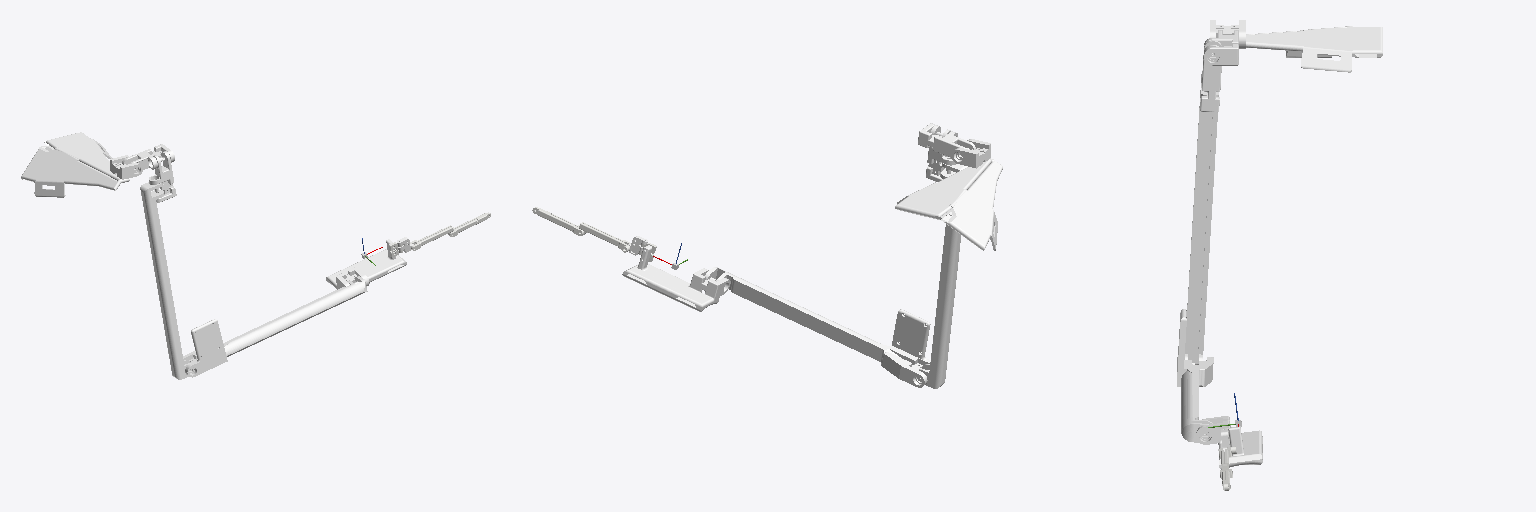
URDF robot description (my-robot-right):
<?xml version="1.0" ?>
<!-- Generated using onshape-to-robot -->
<!-- Onshape https://cad.onshape.com/documents/30647899d0efca800f6a0b61/w/6367c32608b1610b986f4220/e/82448bde0644faba4511c9d2 -->
<robot name="my-robot-right">
  <link name="base_link"/>
  <joint name="base_to_shoulder_pitch" type="fixed">
    <origin xyz="-0.60072 0.15 0.3178" rpy="-0.0 0.0 -0.0"/>
    <parent link="base_link"/>
    <child link="shoulder_pitch"/>
  </joint>
  <!-- Link shoulder_pitch -->
  <link name="shoulder_pitch">
    <inertial>
      <origin xyz="0.0 -0.0 0.0" rpy="-0.0 0.0 -0.0"/>
      <mass value="1e-09"/>
      <inertia ixx="1e-09" ixy="0" ixz="0" iyy="1e-09" iyz="0" izz="1e-09"/>
    </inertial>
    <!-- Part shoulder -->
    <visual>
      <origin xyz="-0.319917 0.188041 -0.0739695" rpy="-1.73941e-11 -2.77556e-17 3.14159"/>
      <geometry>
        <mesh filename="package://meshes_exo_right/shoulder.stl"/>
      </geometry>
      <material name="shoulder_material">
        <color rgba="1 1 1 1"/>
      </material>
    </visual>
    <collision>
      <origin xyz="-0.319917 0.188041 -0.0739695" rpy="-1.73941e-11 -2.77556e-17 3.14159"/>
      <geometry>
        <mesh filename="package://meshes_exo_right/shoulder.stl"/>
      </geometry>
    </collision>
    <!-- Part shoulder_2 -->
    <visual>
      <origin xyz="-0.319917 0.188041 -0.0739695" rpy="-1.73941e-11 1.7367e-11 -3.14159"/>
      <geometry>
        <mesh filename="package://meshes_exo_right/shoulder__2.stl"/>
      </geometry>
      <material name="shoulder_2_material">
        <color rgba="1 1 1 1"/>
      </material>
    </visual>
    <collision>
      <origin xyz="-0.319917 0.188041 -0.0739695" rpy="-1.73941e-11 1.7367e-11 -3.14159"/>
      <geometry>
        <mesh filename="package://meshes_exo_right/shoulder__2.stl"/>
      </geometry>
    </collision>
  </link>
  <!-- Link shoulder_yaw -->
  <link name="shoulder_yaw">
    <inertial>
      <origin xyz="0.0 -0.0 0.0" rpy="-0.0 0.0 -0.0"/>
      <mass value="1e-09"/>
      <inertia ixx="1e-09" ixy="0" ixz="0" iyy="1e-09" iyz="0" izz="1e-09"/>
    </inertial>
    <!-- Part shoulder_3 -->
    <visual>
      <origin xyz="0.337111 -0.085895 0.174004" rpy="-1.5708 4.85145e-12 5.68355e-18"/>
      <geometry>
        <mesh filename="package://meshes_exo_right/shoulder__3.stl"/>
      </geometry>
      <material name="shoulder_3_material">
        <color rgba="1 1 1 1"/>
      </material>
    </visual>
    <collision>
      <origin xyz="0.337111 -0.085895 0.174004" rpy="-1.5708 4.85145e-12 5.68355e-18"/>
      <geometry>
        <mesh filename="package://meshes_exo_right/shoulder__3.stl"/>
      </geometry>
    </collision>
  </link>
  <!-- Link shoulder_roll -->
  <link name="shoulder_roll">
    <inertial>
      <origin xyz="0.0 -0.0 0.0" rpy="-0.0 0.0 -0.0"/>
      <mass value="1e-09"/>
      <inertia ixx="1e-09" ixy="0" ixz="0" iyy="1e-09" iyz="0" izz="1e-09"/>
    </inertial>
    <!-- Part shoulder_4 -->
    <visual>
      <origin xyz="0.188947 0.0970719 0.361641" rpy="1.62911 -1.5708 -0.0"/>
      <geometry>
        <mesh filename="package://meshes_exo_right/shoulder__4.stl"/>
      </geometry>
      <material name="shoulder_4_material">
        <color rgba="1 1 1 1"/>
      </material>
    </visual>
    <collision>
      <origin xyz="0.188947 0.0970719 0.361641" rpy="1.62911 -1.5708 -0.0"/>
      <geometry>
        <mesh filename="package://meshes_exo_right/shoulder__4.stl"/>
      </geometry>
    </collision>
  </link>
  <!-- Link elbow_flex -->
  <link name="elbow_flex">
    <inertial>
      <origin xyz="0.0 -0.0 0.0" rpy="-0.0 0.0 -0.0"/>
      <mass value="1e-09"/>
      <inertia ixx="1e-09" ixy="0" ixz="0" iyy="1e-09" iyz="0" izz="1e-09"/>
    </inertial>
    <!-- Part shoulder_5 -->
    <visual>
      <origin xyz="0.358661 -0.193894 -0.0611064" rpy="-1.78388e-17 2.53007e-17 -3.50616e-18"/>
      <geometry>
        <mesh filename="package://meshes_exo_right/shoulder__5.stl"/>
      </geometry>
      <material name="shoulder_5_material">
        <color rgba="1 1 1 1"/>
      </material>
    </visual>
    <collision>
      <origin xyz="0.358661 -0.193894 -0.0611064" rpy="-1.78388e-17 2.53007e-17 -3.50616e-18"/>
      <geometry>
        <mesh filename="package://meshes_exo_right/shoulder__5.stl"/>
      </geometry>
    </collision>
  </link>
  <!-- Link wrist_roll -->
  <link name="wrist_roll">
    <inertial>
      <origin xyz="0.0 -0.0 0.0" rpy="-0.0 0.0 -0.0"/>
      <mass value="1e-09"/>
      <inertia ixx="1e-09" ixy="0" ixz="0" iyy="1e-09" iyz="0" izz="1e-09"/>
    </inertial>
    <!-- Part wrist -->
    <visual>
      <origin xyz="0.370176 0.154734 0.203442" rpy="-1.5708 2.12442e-12 -0.0687143"/>
      <geometry>
        <mesh filename="package://meshes_exo_right/wrist.stl"/>
      </geometry>
      <material name="wrist_material">
        <color rgba="1 1 1 1"/>
      </material>
    </visual>
    <collision>
      <origin xyz="0.370176 0.154734 0.203442" rpy="-1.5708 2.12442e-12 -0.0687143"/>
      <geometry>
        <mesh filename="package://meshes_exo_right/wrist.stl"/>
      </geometry>
    </collision>
  </link>
  <!-- Link end_effector -->
  <link name="end_effector">
    <inertial>
      <origin xyz="0.0 -0.0 0.0" rpy="-0.0 0.0 -0.0"/>
      <mass value="1e-09"/>
      <inertia ixx="1e-09" ixy="0" ixz="0" iyy="1e-09" iyz="0" izz="1e-09"/>
    </inertial>
    <!-- Part wrist_2 -->
    <visual>
      <origin xyz="0.189619 -0.17695 -0.583114" rpy="-0.0540298 1.5708 -0.0"/>
      <geometry>
        <mesh filename="package://meshes_exo_right/wrist__2.stl"/>
      </geometry>
      <material name="wrist_2_material">
        <color rgba="0.964706 0.964706 0.952941 1"/>
      </material>
    </visual>
    <collision>
      <origin xyz="0.189619 -0.17695 -0.583114" rpy="-0.0540298 1.5708 -0.0"/>
      <geometry>
        <mesh filename="package://meshes_exo_right/wrist__2.stl"/>
      </geometry>
    </collision>
    <!-- Part wrist_3 -->
    <visual>
      <origin xyz="0.189345 -0.176964 -0.583114" rpy="-0.0540298 1.5708 -0.0"/>
      <geometry>
        <mesh filename="package://meshes_exo_right/wrist__3.stl"/>
      </geometry>
      <material name="wrist_3_material">
        <color rgba="1 1 1 1"/>
      </material>
    </visual>
    <collision>
      <origin xyz="0.189345 -0.176964 -0.583114" rpy="-0.0540298 1.5708 -0.0"/>
      <geometry>
        <mesh filename="package://meshes_exo_right/wrist__3.stl"/>
      </geometry>
    </collision>
    <!-- Part wrist_4 -->
    <visual>
      <origin xyz="0.192193 -0.173682 -0.583216" rpy="-0.0688698 1.5708 -0.0"/>
      <geometry>
        <mesh filename="package://meshes_exo_right/wrist__4.stl"/>
      </geometry>
      <material name="wrist_4_material">
        <color rgba="1 1 1 1"/>
      </material>
    </visual>
    <collision>
      <origin xyz="0.192193 -0.173682 -0.583216" rpy="-0.0688698 1.5708 -0.0"/>
      <geometry>
        <mesh filename="package://meshes_exo_right/wrist__4.stl"/>
      </geometry>
    </collision>
    <!-- Part wrist_5 -->
    <visual>
      <origin xyz="0.189768 -0.177109 -0.583122" rpy="1.57084 1.57074 1.62483"/>
      <geometry>
        <mesh filename="package://meshes_exo_right/wrist__5.stl"/>
      </geometry>
      <material name="wrist_5_material">
        <color rgba="0.964706 0.964706 0.952941 1"/>
      </material>
    </visual>
    <collision>
      <origin xyz="0.189768 -0.177109 -0.583122" rpy="1.57084 1.57074 1.62483"/>
      <geometry>
        <mesh filename="package://meshes_exo_right/wrist__5.stl"/>
      </geometry>
    </collision>
    <!-- Part wrist_6 -->
    <visual>
      <origin xyz="0.189348 -0.177132 -0.583124" rpy="1.57084 1.57074 1.62483"/>
      <geometry>
        <mesh filename="package://meshes_exo_right/wrist__6.stl"/>
      </geometry>
      <material name="wrist_6_material">
        <color rgba="0.964706 0.964706 0.952941 1"/>
      </material>
    </visual>
    <collision>
      <origin xyz="0.189348 -0.177132 -0.583124" rpy="1.57084 1.57074 1.62483"/>
      <geometry>
        <mesh filename="package://meshes_exo_right/wrist__6.stl"/>
      </geometry>
    </collision>
    <!-- Part z -->
    <visual>
      <origin xyz="0.0115311 -0.0274691 0.0397266" rpy="-3.08756 -1.5708 -0.0"/>
      <geometry>
        <mesh filename="package://meshes_exo_right/z.stl"/>
      </geometry>
      <material name="z_material">
        <color rgba="0.231373 0.380392 0.705882 1"/>
      </material>
    </visual>
    <collision>
      <origin xyz="0.0115311 -0.0274691 0.0397266" rpy="-3.08756 -1.5708 -0.0"/>
      <geometry>
        <mesh filename="package://meshes_exo_right/z.stl"/>
      </geometry>
    </collision>
    <!-- Part y -->
    <visual>
      <origin xyz="0.0115311 -0.0274691 0.0397266" rpy="-3.08756 -1.5708 -0.0"/>
      <geometry>
        <mesh filename="package://meshes_exo_right/y.stl"/>
      </geometry>
      <material name="y_material">
        <color rgba="0.372549 0.654902 0.239216 1"/>
      </material>
    </visual>
    <collision>
      <origin xyz="0.0115311 -0.0274691 0.0397266" rpy="-3.08756 -1.5708 -0.0"/>
      <geometry>
        <mesh filename="package://meshes_exo_right/y.stl"/>
      </geometry>
    </collision>
    <!-- Part part_4 -->
    <visual>
      <origin xyz="0.0115311 -0.0274691 0.0397266" rpy="-3.08756 -1.5708 -0.0"/>
      <geometry>
        <mesh filename="package://meshes_exo_right/part_4.stl"/>
      </geometry>
      <material name="part_4_material">
        <color rgba="0.917647 0.917647 0.917647 1"/>
      </material>
    </visual>
    <collision>
      <origin xyz="0.0115311 -0.0274691 0.0397266" rpy="-3.08756 -1.5708 -0.0"/>
      <geometry>
        <mesh filename="package://meshes_exo_right/part_4.stl"/>
      </geometry>
    </collision>
    <!-- Part x -->
    <visual>
      <origin xyz="0.0115311 -0.0274691 0.0397266" rpy="-3.08756 -1.5708 -0.0"/>
      <geometry>
        <mesh filename="package://meshes_exo_right/x.stl"/>
      </geometry>
      <material name="x_material">
        <color rgba="1 0 0 1"/>
      </material>
    </visual>
    <collision>
      <origin xyz="0.0115311 -0.0274691 0.0397266" rpy="-3.08756 -1.5708 -0.0"/>
      <geometry>
        <mesh filename="package://meshes_exo_right/x.stl"/>
      </geometry>
    </collision>
  </link>
  <!-- Joint from wrist_roll to end_effector -->
  <joint name="wrist_roll" type="revolute">
    <origin xyz="-0.224547 0.0154537 0.0169453" rpy="-1.5708 0.139345 1.50208"/>
    <parent link="wrist_roll"/>
    <child link="end_effector"/>
    <axis xyz="0 0 1"/>
    <limit effort="10" velocity="10" lower="-0.716528" upper="0.854268"/>
  </joint>
  <!-- Joint from elbow_flex to wrist_roll -->
  <joint name="elbow_flex" type="revolute">
    <origin xyz="-1.7424e-05 0.00788072 -0.240892" rpy="1.5708 2.53007e-17 -3.50616e-18"/>
    <parent link="elbow_flex"/>
    <child link="wrist_roll"/>
    <axis xyz="0 0 1"/>
    <limit effort="10" velocity="10" lower="-1.11591" upper="1.32755"/>
  </joint>
  <!-- Joint from shoulder_roll to elbow_flex -->
  <joint name="shoulder_roll" type="revolute">
    <origin xyz="-0.00144298 0.0247172 0.00296278" rpy="1.5708 -1.56793 0.0583134"/>
    <parent link="shoulder_roll"/>
    <child link="elbow_flex"/>
    <axis xyz="0 0 1"/>
    <limit effort="10" velocity="10" lower="-1.57366" upper="1.56793"/>
  </joint>
  <!-- Joint from shoulder_yaw to shoulder_roll -->
  <joint name="shoulder_yaw" type="revolute">
    <origin xyz="-0.0247593 -7.34308e-15 -0.0202799" rpy="-3.14159 -1.5708 -0.0"/>
    <parent link="shoulder_yaw"/>
    <child link="shoulder_roll"/>
    <axis xyz="0 0 1"/>
    <limit effort="10" velocity="10" lower="-0.290752" upper="1.62911"/>
  </joint>
  <!-- Joint from shoulder_pitch to shoulder_yaw -->
  <joint name="shoulder_pitch" type="revolute">
    <origin xyz="0.017217 0.0139551 0.0119912" rpy="1.5708 0.142264 3.14159"/>
    <parent link="shoulder_pitch"/>
    <child link="shoulder_yaw"/>
    <axis xyz="0 0 1"/>
    <limit effort="10" velocity="10" lower="-1.18946" upper="1.254"/>
  </joint>
  <link name="ee"/>

  <joint name="end_effector_to_ee" type="fixed">
    <parent link="end_effector"/>
    <child link="ee"/>
    <!-- rotate tcp here -->
    <origin xyz="0.0 -0.0 0.0" rpy="-1.5708 -1.5708 -1.5708"/>
  </joint>
</robot>

--- Render facts (derived) ---
The picture shows the robot from 3 angles, left to right: view 1: azimuth 30°, elevation 25°; view 2: azimuth 150°, elevation 25°; view 3: azimuth 270°, elevation 25°; orthographic projection.
Robot: my-robot-right — 8 links, 7 joints (5 revolute, 2 fixed); root link base_link; default pose: every joint at zero.
Links seen in each view (by area): view 1: shoulder_pitch, wrist_roll, elbow_flex, end_effector, shoulder_roll, shoulder_yaw; view 2: shoulder_pitch, wrist_roll, end_effector, elbow_flex, shoulder_yaw, shoulder_roll; view 3: elbow_flex, shoulder_pitch, end_effector, wrist_roll, shoulder_roll, shoulder_yaw.
Boxes of the visible links, x1,y1,x2,y2 form: shoulder_pitch: (21,132,142,197); wrist_roll: (183,276,367,377); elbow_flex: (140,182,193,379); end_effector: (326,212,490,289); shoulder_roll: (149,151,176,202); shoulder_yaw: (122,144,174,171); shoulder_pitch: (895,139,1002,250); wrist_roll: (705,267,930,387); end_effector: (532,207,730,311); elbow_flex: (917,163,967,388); shoulder_yaw: (918,123,975,158); shoulder_roll: (926,125,955,181); elbow_flex: (1185,74,1218,364); shoulder_pitch: (1205,20,1382,72); end_effector: (1196,393,1262,490); wrist_roll: (1177,309,1213,442); shoulder_roll: (1200,40,1221,112); shoulder_yaw: (1204,30,1238,65).
Size in the robot's own frame: 0.5621 by 0.1651 by 0.2834 metres.
Meshes: 15 distinct files referenced, 15 mesh visuals loaded (15 binary STL).
